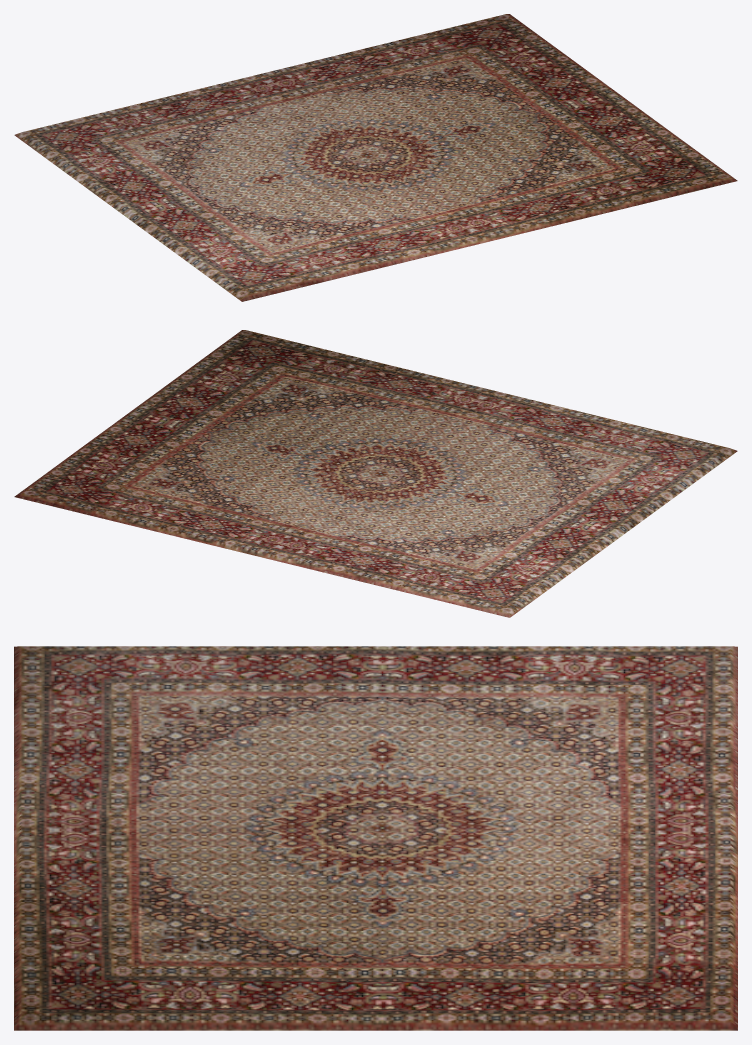
The model's file is carpet-04.fbx.
3 renders of one model, top to bottom at view 1: azimuth 30°, elevation 25°; view 2: azimuth 150°, elevation 25°; view 3: azimuth 270°, elevation 25°, orthographic. The views are drawn at different scales.
Parts seen in each view (by area): view 1: Plane.019; view 2: Plane.019; view 3: Plane.019.
Boxes of the visible parts, x1,y1,x2,y2 form: Plane.019: (14,14,737,301); Plane.019: (14,330,737,617); Plane.019: (14,646,737,1030).
Size of the model in its own units: 2.46 by 0.0145 by 1.96.
